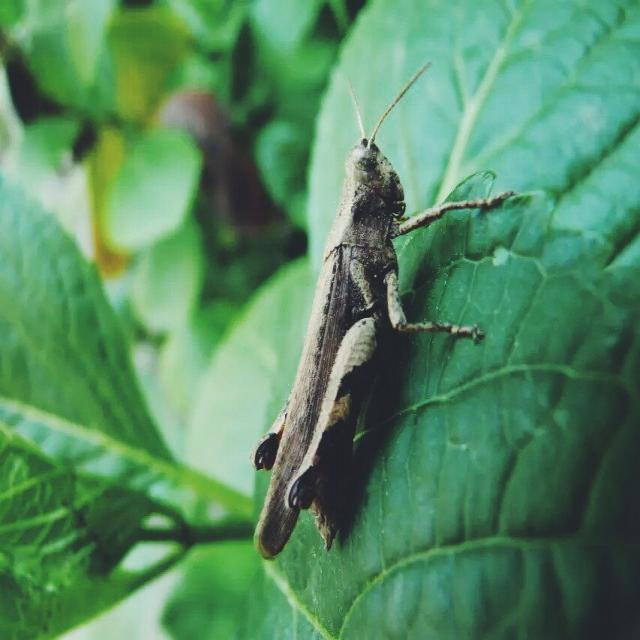ZhaMeng: (255, 53, 460, 570)
